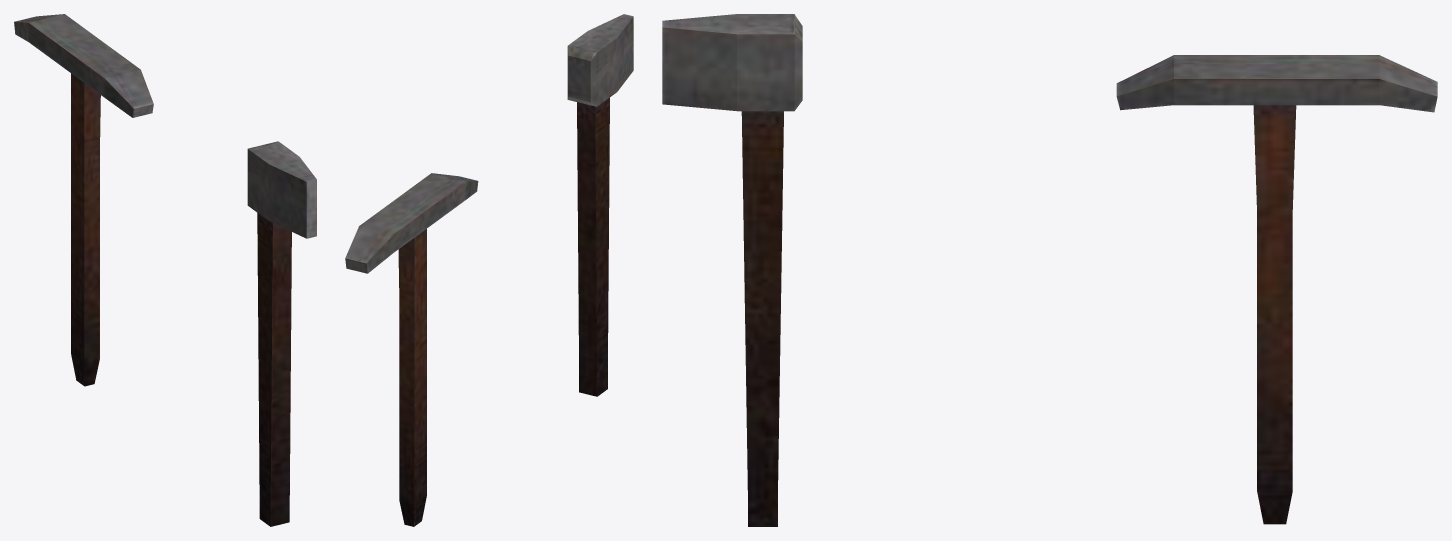
The picture shows the model from 3 angles, left to right: view 1: azimuth 30°, elevation 25°; view 2: azimuth 150°, elevation 25°; view 3: azimuth 270°, elevation 25°; orthographic projection. The views are drawn at different scales.
Parts seen in each view (by area): view 1: ax2, ax; view 2: ax2, ax; view 3: ax, ax2.
Part boxes in pixels (bbox=[...]): ax2: bbox=[247, 141, 316, 526]; ax: bbox=[14, 14, 153, 386]; ax2: bbox=[567, 14, 633, 396]; ax: bbox=[345, 173, 478, 526]; ax: bbox=[1116, 55, 1437, 524]; ax2: bbox=[662, 14, 802, 526].
Bounding box in the file's own units: 20.11 × 195 × 276.
